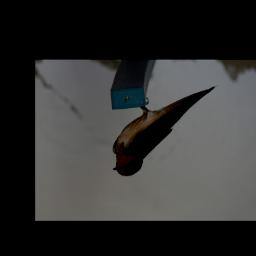Swallow: (109, 84, 218, 178)
